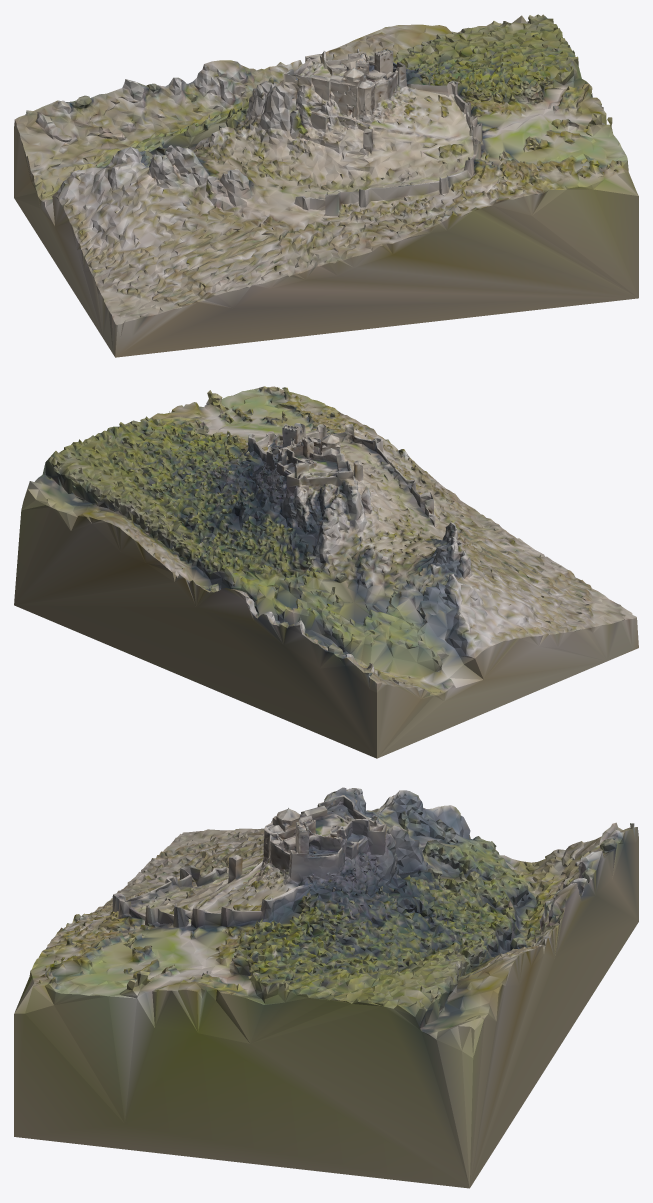
File: castle-loarre.glb
3 views of the same model, one above another, from view 1: azimuth 30°, elevation 25°; view 2: azimuth 150°, elevation 25°; view 3: azimuth 270°, elevation 25° (orthographic). The views are drawn at different scales.
Visible parts, largest first — view 1: geometry_0; view 2: geometry_0; view 3: geometry_0.
Part boxes in pixels (left/top/right/bottom): geometry_0: left=14, top=14, right=638, bottom=357; geometry_0: left=14, top=386, right=638, bottom=758; geometry_0: left=14, top=787, right=638, bottom=1188.
Bounding box in the file's own units: 220 × 74.5 × 182.
